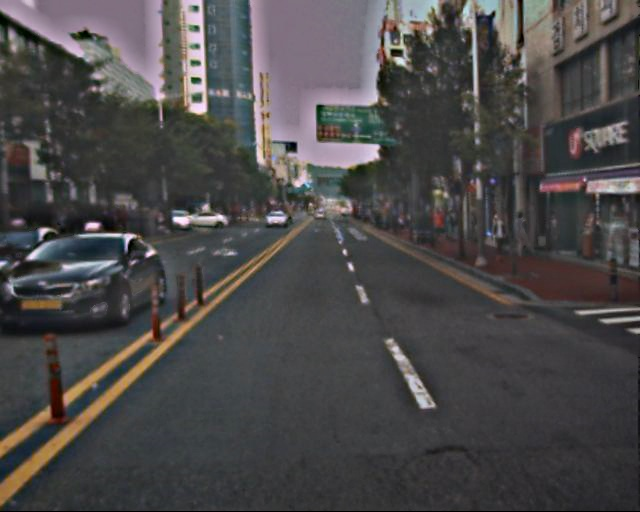person: (488, 208, 510, 261), (509, 210, 530, 261)
